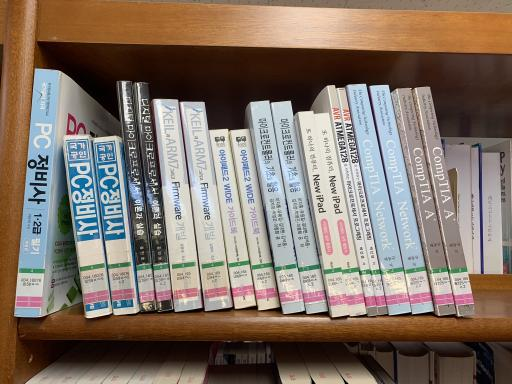book-spine: (348, 84, 411, 316), (371, 84, 434, 314), (416, 86, 476, 317), (398, 88, 456, 316), (271, 101, 328, 315), (328, 85, 378, 317), (337, 88, 388, 315), (251, 100, 305, 314), (15, 68, 60, 318), (181, 101, 232, 311), (315, 112, 367, 315), (299, 111, 349, 318), (155, 99, 202, 312), (63, 134, 111, 319), (231, 129, 280, 310), (118, 80, 155, 312), (210, 129, 256, 308), (136, 83, 172, 311), (93, 136, 136, 316)
